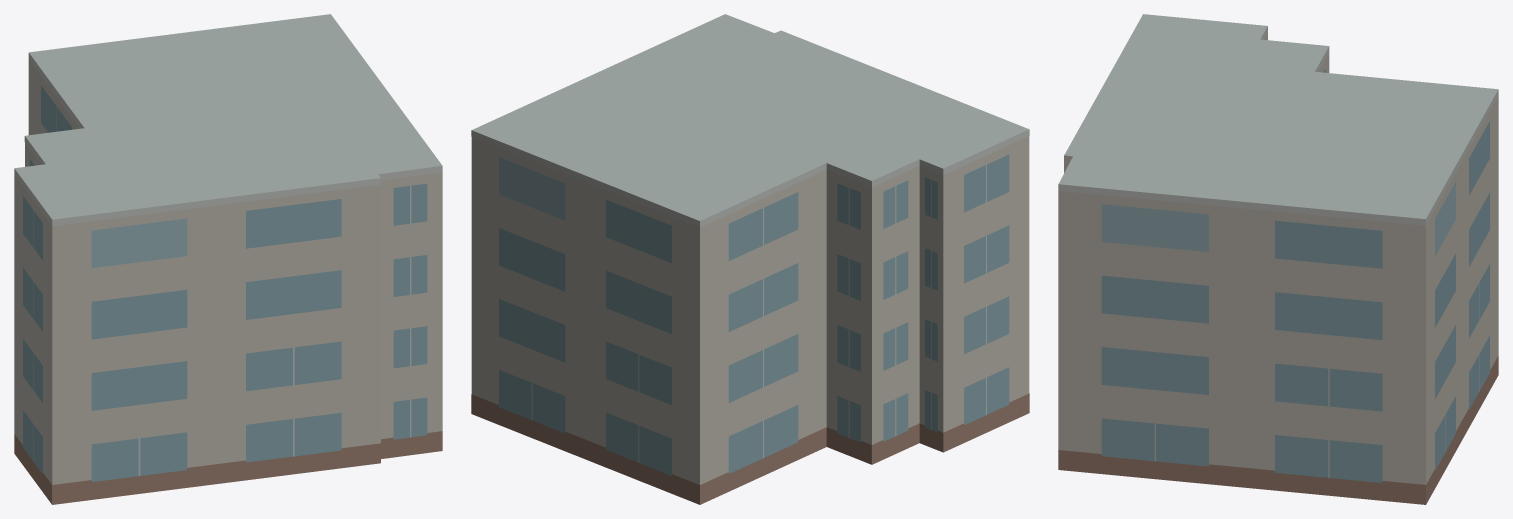
Rendered from survey-upis-32694932.glb.
3 renders of one model, left to right at view 1: azimuth 30°, elevation 25°; view 2: azimuth 150°, elevation 25°; view 3: azimuth 270°, elevation 25°, orthographic.
Parts seen in each view (by area): view 1: survey-upis-32694932.tmp; view 2: survey-upis-32694932.tmp; view 3: survey-upis-32694932.tmp.
Part boxes in pixels (<box>): survey-upis-32694932.tmp: <box>14,14,442,504</box>; survey-upis-32694932.tmp: <box>471,14,1029,504</box>; survey-upis-32694932.tmp: <box>1058,14,1498,504</box>.
Size of the model in its own units: 16.33 by 10.6 by 14.81.
